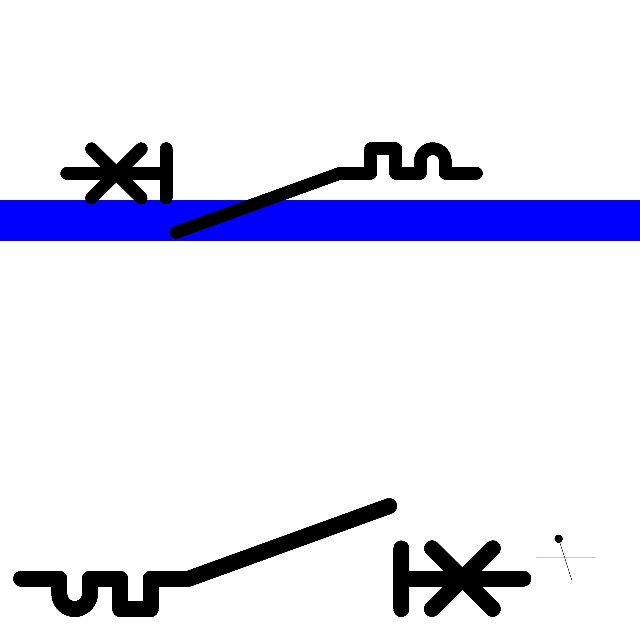interruptor_termomagnetico: (8, 493, 536, 622), (56, 138, 487, 243)
